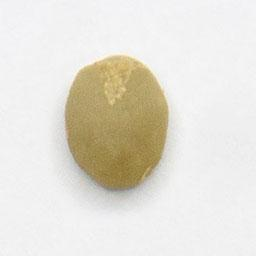premium: (62, 52, 171, 195)
